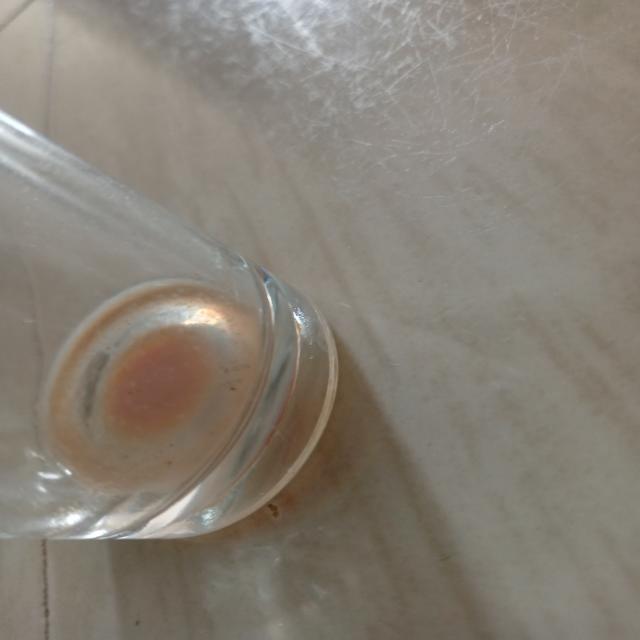glass-VX4N: (0, 91, 342, 538)
